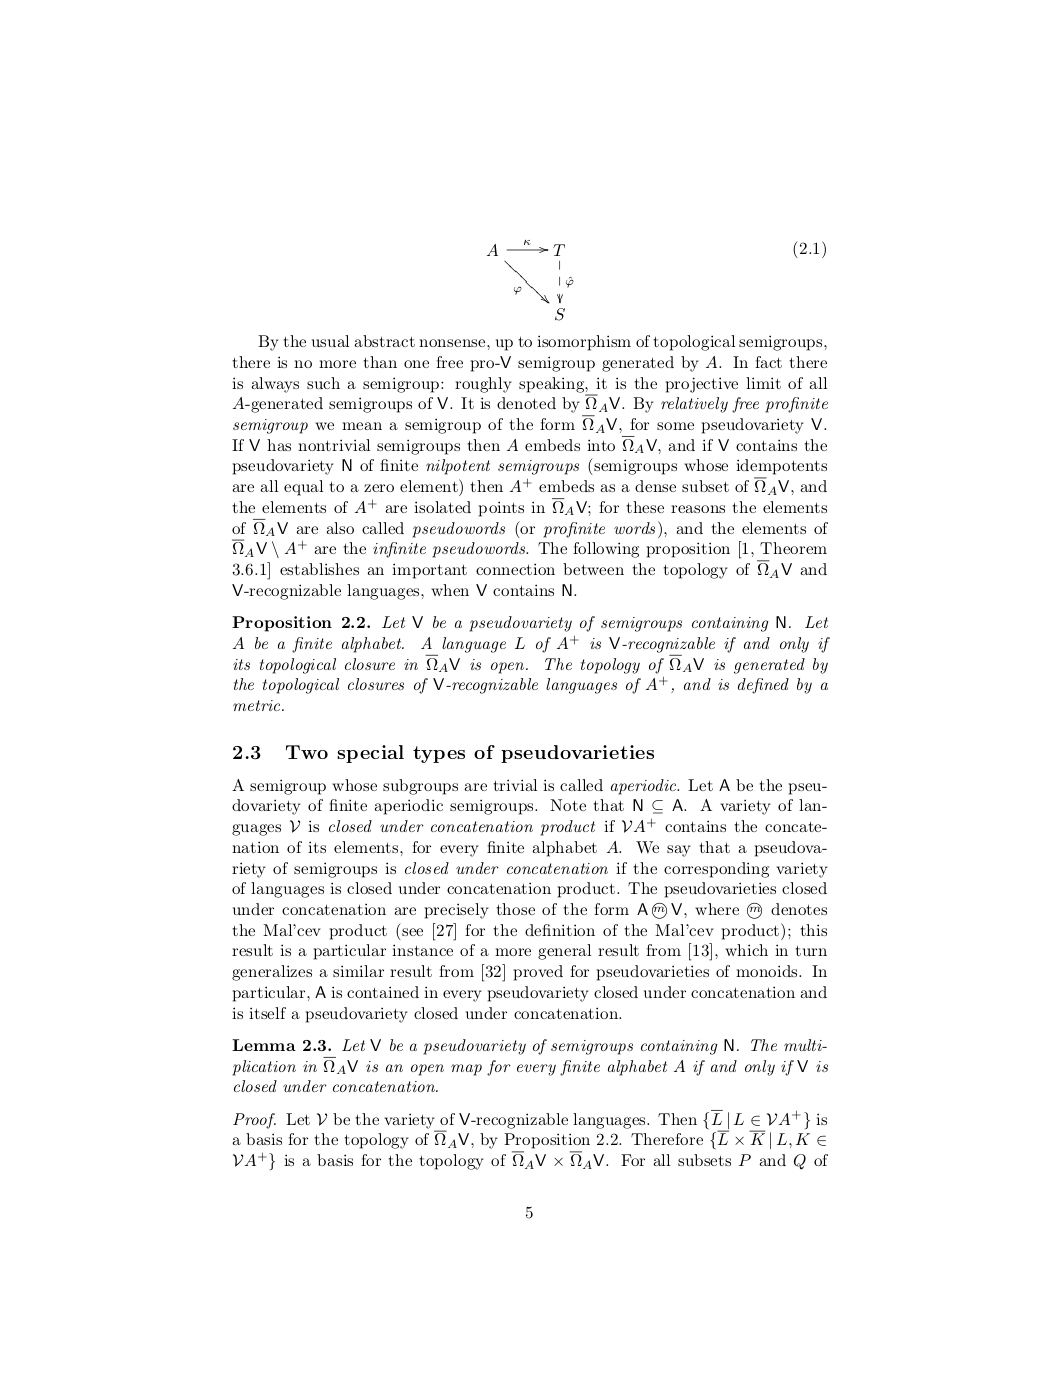formula: (486, 238, 825, 320)
